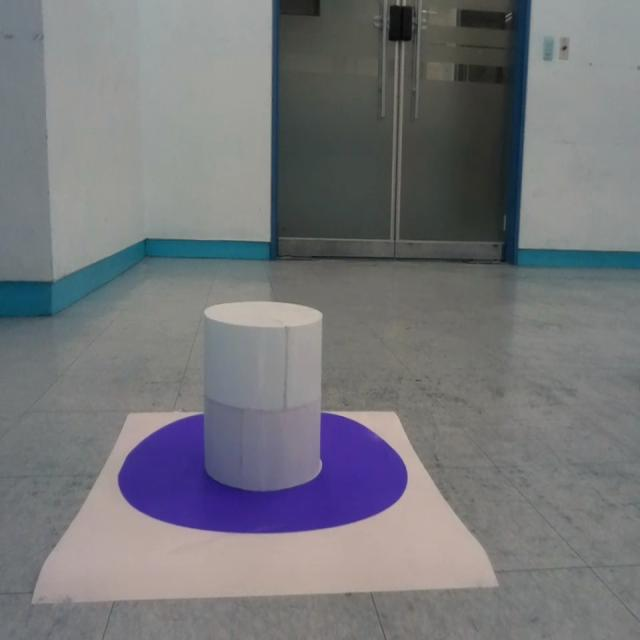cylinder: (202, 300, 324, 490)
